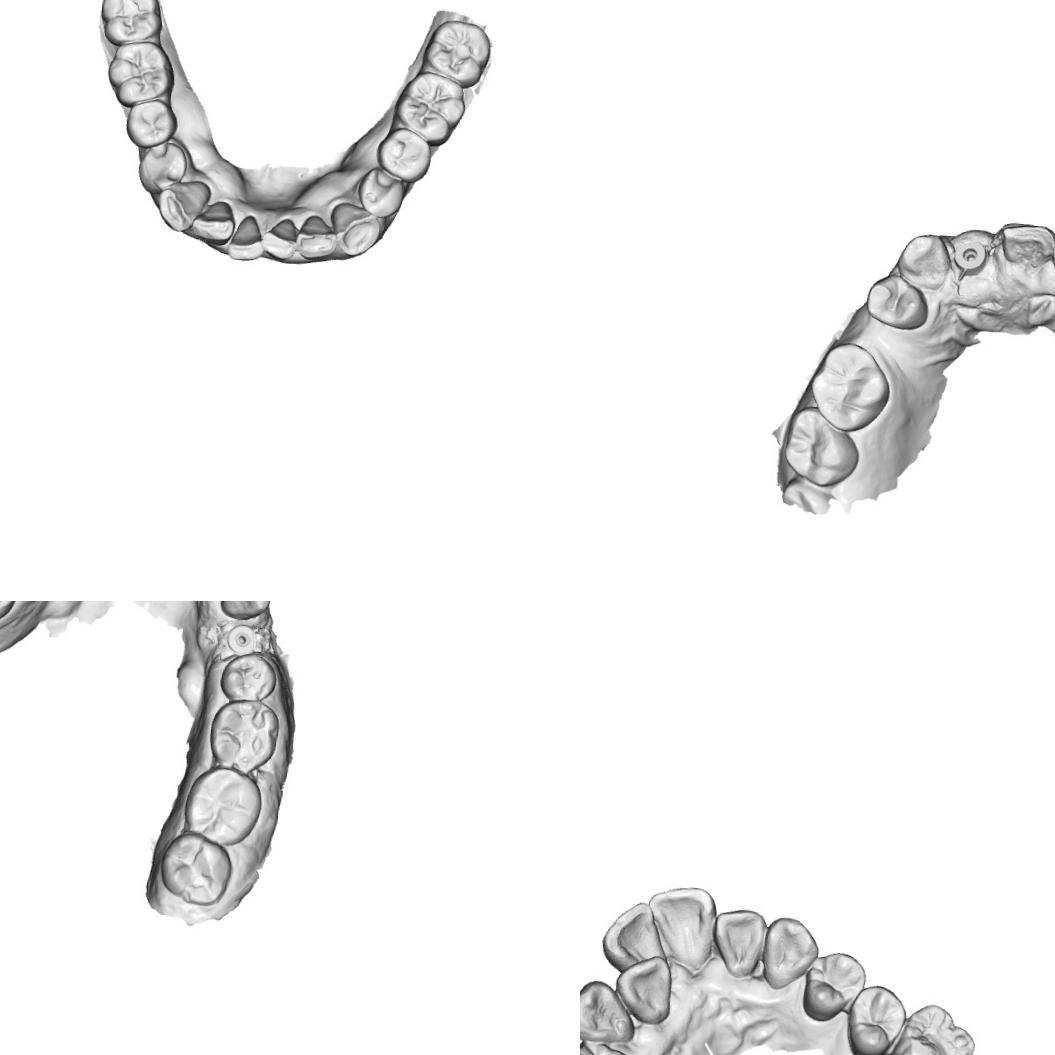canine: (758, 912, 824, 992), (580, 976, 640, 1048), (891, 226, 952, 293), (152, 176, 212, 236), (329, 197, 383, 261), (217, 601, 274, 621)
implant: (947, 232, 991, 277), (220, 620, 267, 661)
incisor: (640, 878, 723, 980), (598, 898, 677, 992), (709, 898, 767, 980), (613, 954, 674, 1026), (996, 217, 1055, 269), (294, 210, 340, 265), (188, 197, 237, 248), (259, 214, 302, 266), (226, 210, 266, 262)
molar: (804, 340, 894, 436), (778, 403, 864, 490), (178, 764, 265, 850), (153, 827, 236, 908), (209, 696, 285, 782), (392, 66, 470, 146), (881, 998, 981, 1055), (418, 15, 493, 90), (103, 38, 177, 110), (96, 0, 165, 48)
premolar: (797, 945, 868, 1026), (842, 980, 906, 1055), (860, 269, 934, 333), (372, 124, 435, 184), (218, 650, 282, 708), (122, 96, 180, 152), (353, 162, 408, 220), (134, 137, 188, 196)
